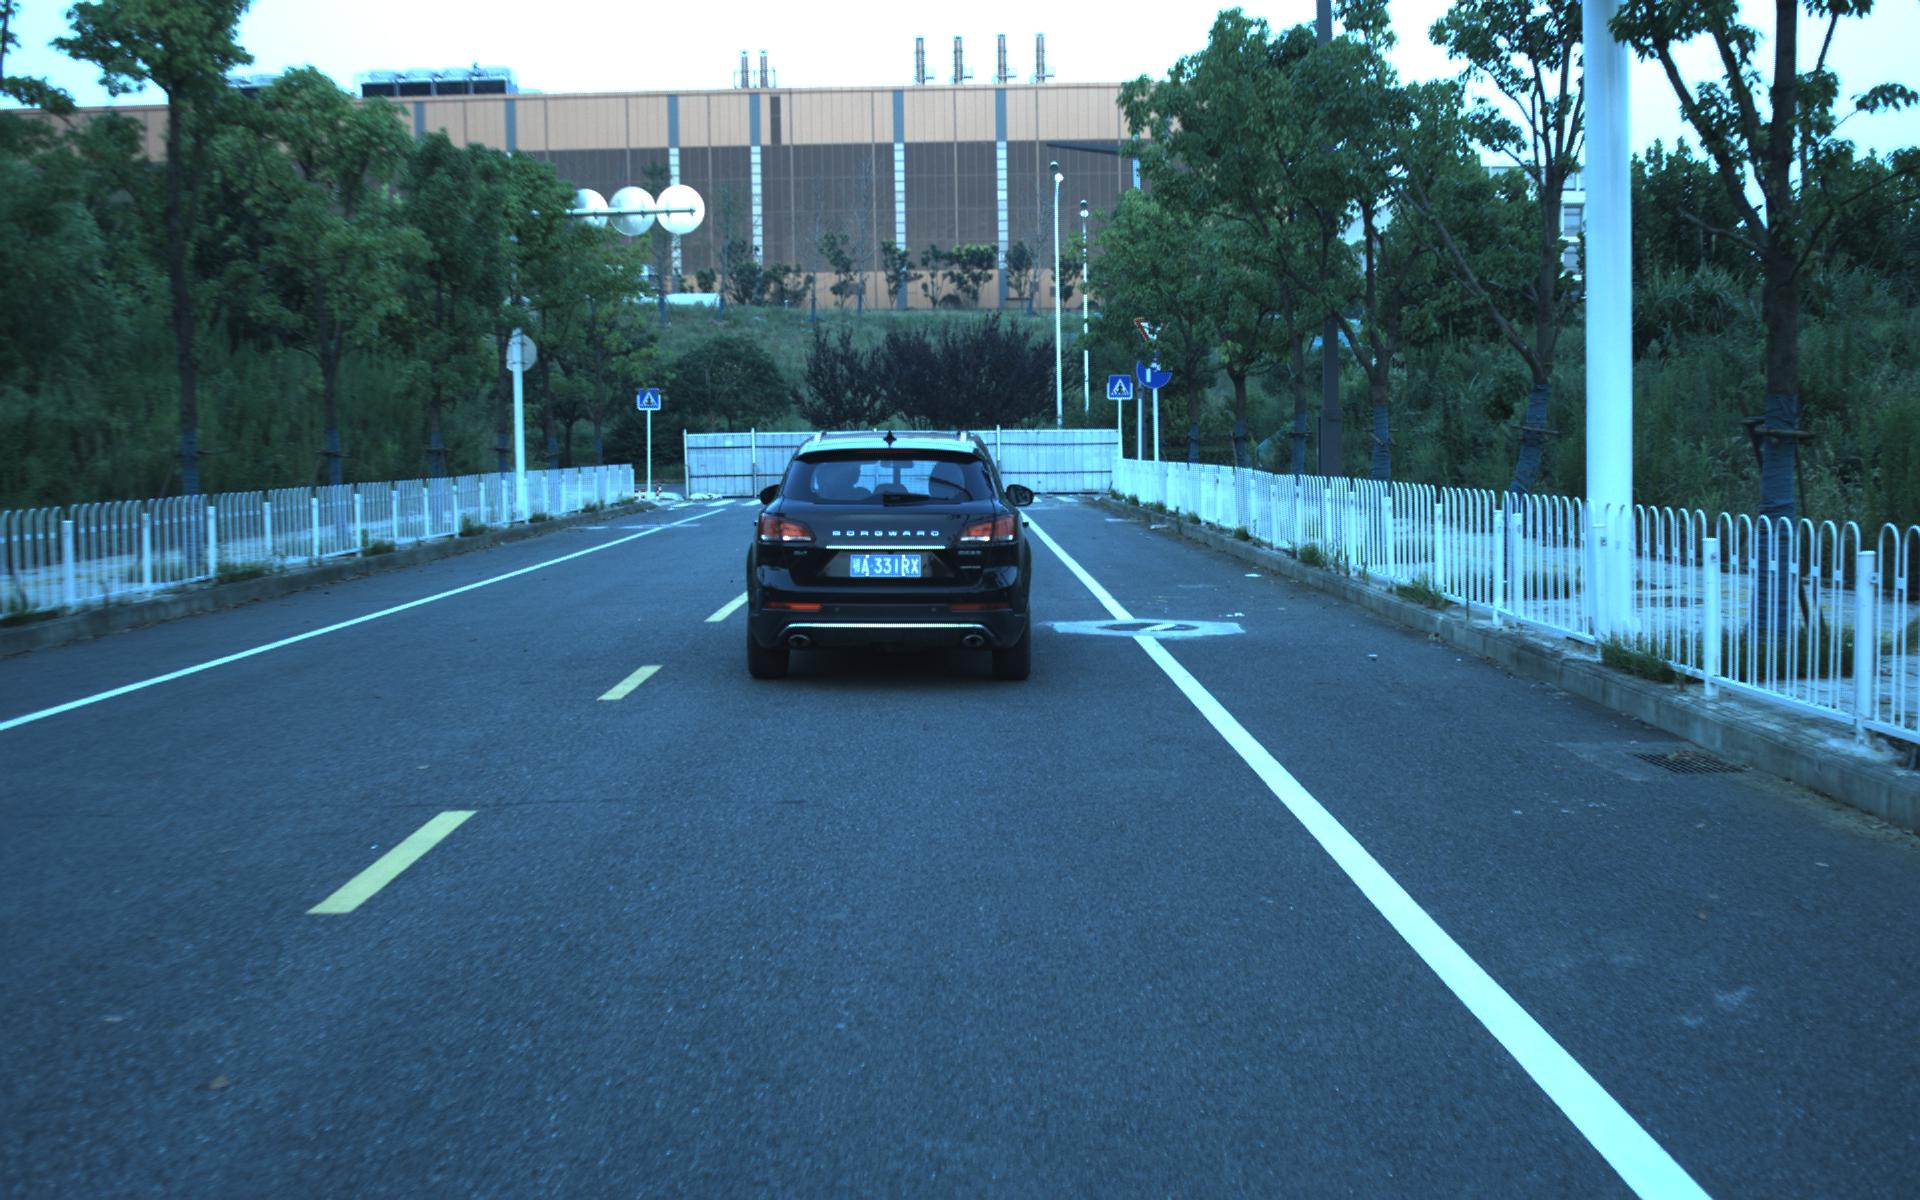Car: (742, 423, 1035, 684)
